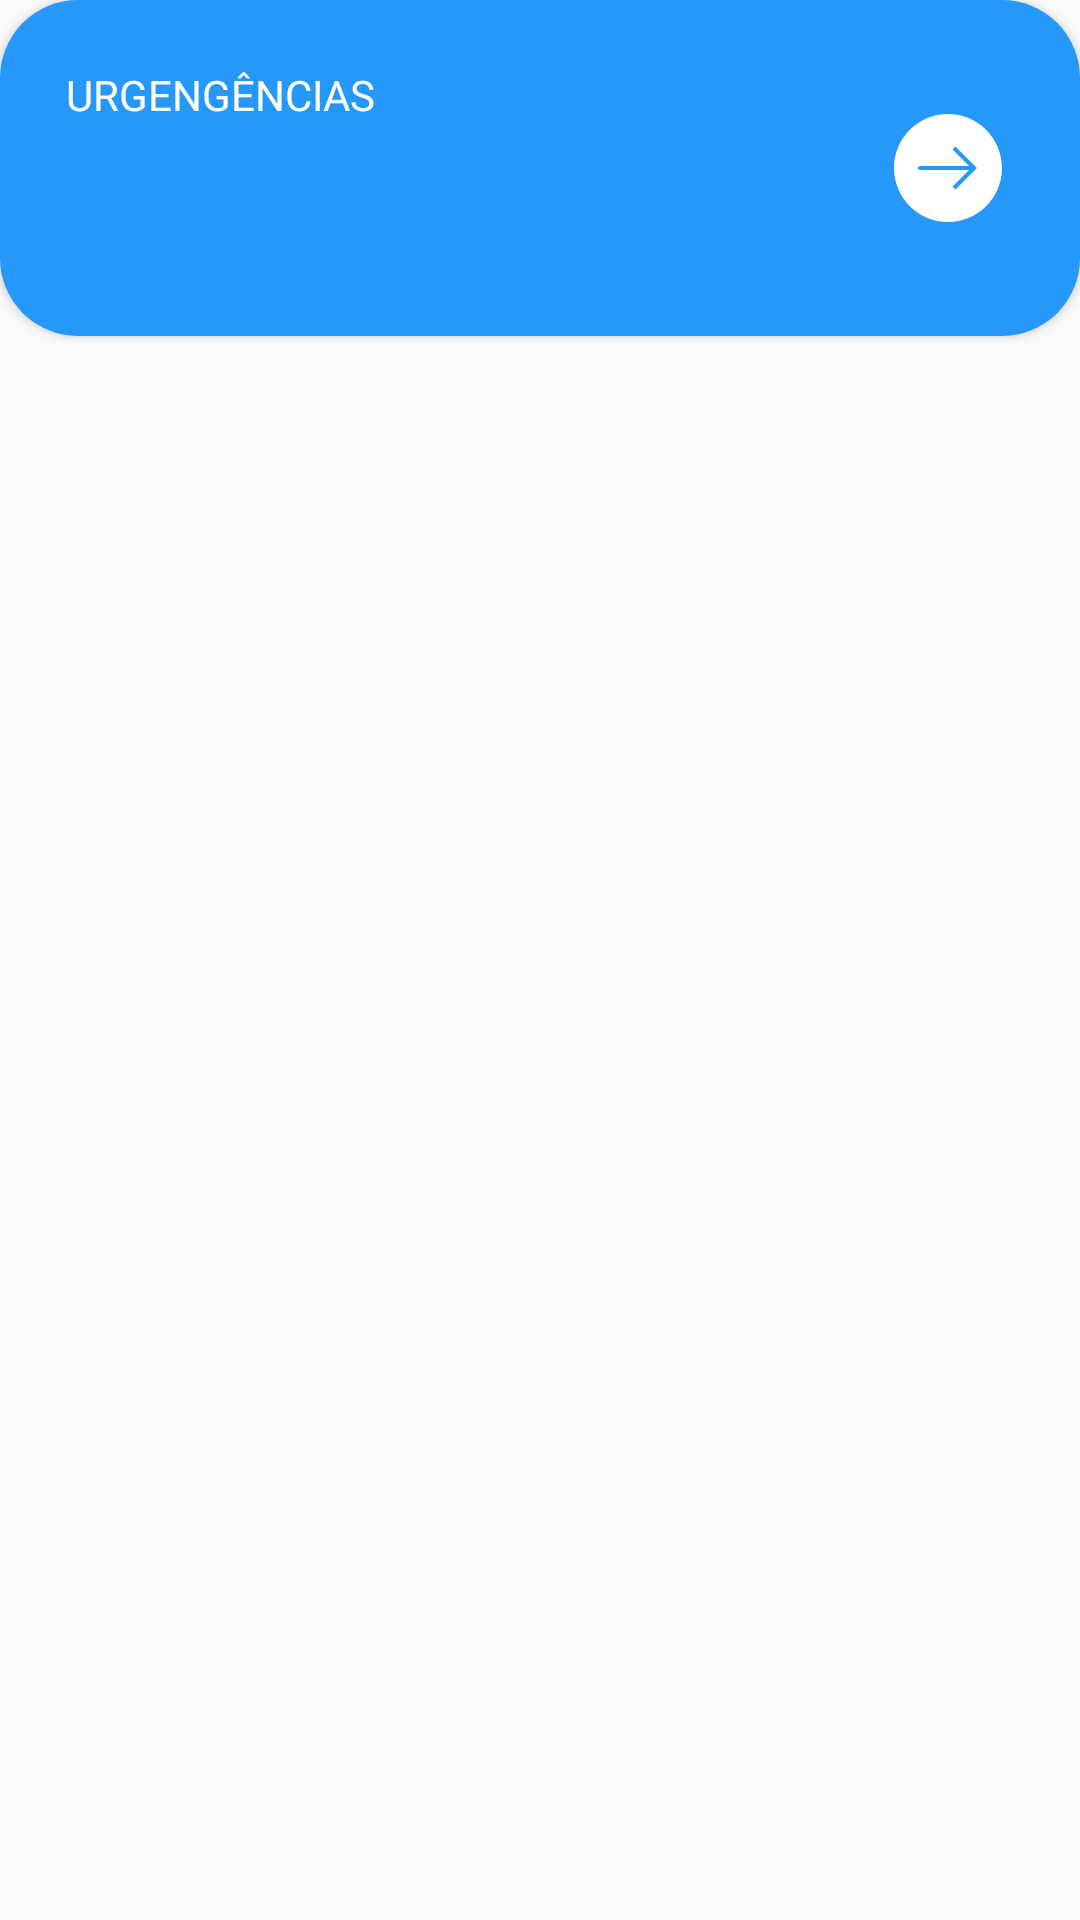

Screen size 1080px×1920px. Icon name, then its box in pixels as (x1, y1, x2, y2):
arrow right: (894, 114, 1002, 222)
